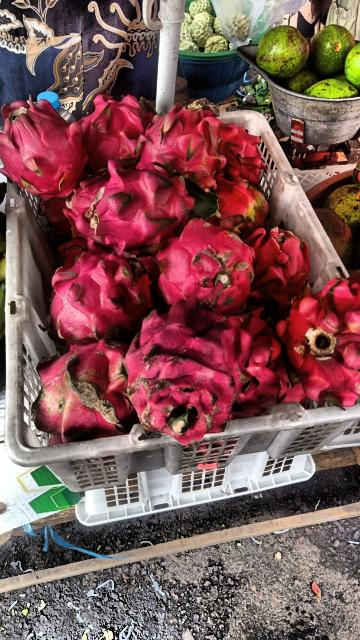buah-naga-matang: (128, 309, 248, 436), (276, 276, 360, 404), (33, 344, 136, 442), (155, 217, 255, 313), (44, 254, 158, 338), (67, 169, 191, 237), (132, 104, 228, 190), (1, 96, 86, 190), (70, 90, 148, 162), (236, 218, 306, 298)
